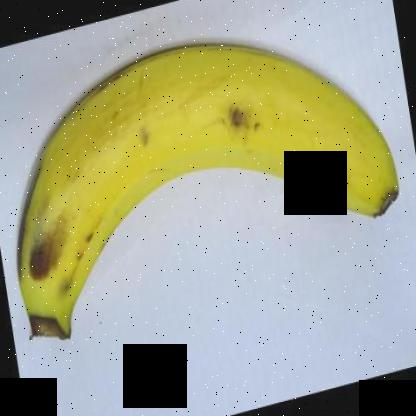freshripe: (4, 20, 409, 353)
